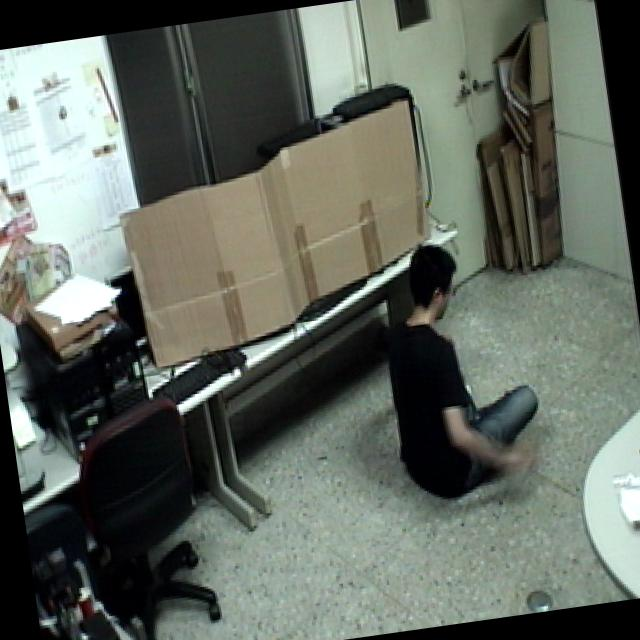sit: (364, 222, 557, 516)
